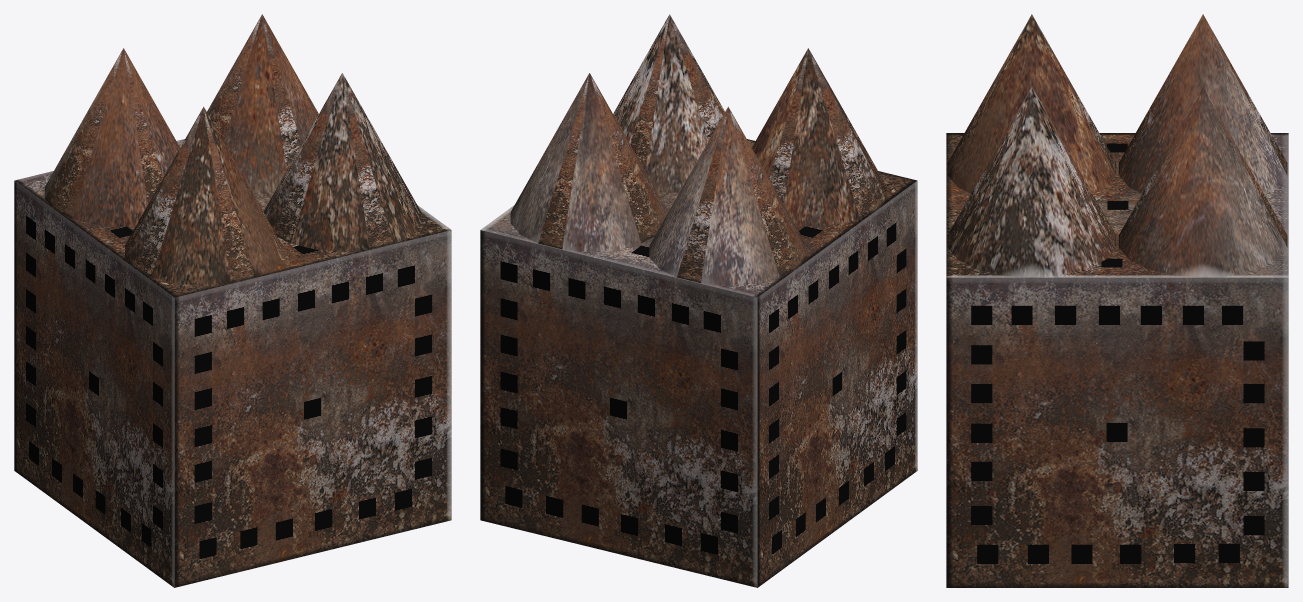
File: spike.FBX
The picture shows the model from 3 angles, left to right: view 1: azimuth 30°, elevation 25°; view 2: azimuth 150°, elevation 25°; view 3: azimuth 270°, elevation 25°; orthographic projection. The views are drawn at different scales.
Visible parts, largest first — view 1: Box001, Cylinder003; view 2: Box001, Cylinder003; view 3: Box001, Cylinder003.
Part boxes in pixels (x1,y1,x2,y2): Box001: (14, 139, 451, 587); Cylinder003: (44, 14, 421, 285); Box001: (480, 139, 917, 587); Cylinder003: (510, 14, 887, 285); Box001: (946, 133, 1288, 587); Cylinder003: (947, 14, 1287, 277).
Size of the model in its own units: 10 by 15 by 10.
2 materials, 2 textured.
